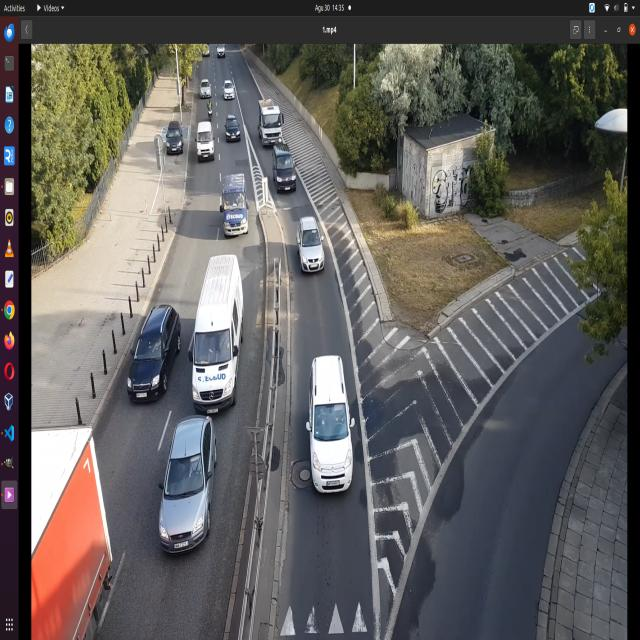person_with_seatbelt: (186, 458, 203, 478), (152, 337, 166, 356), (220, 332, 231, 354)
person_without_seatbelt: (332, 407, 346, 432), (235, 193, 245, 208)
